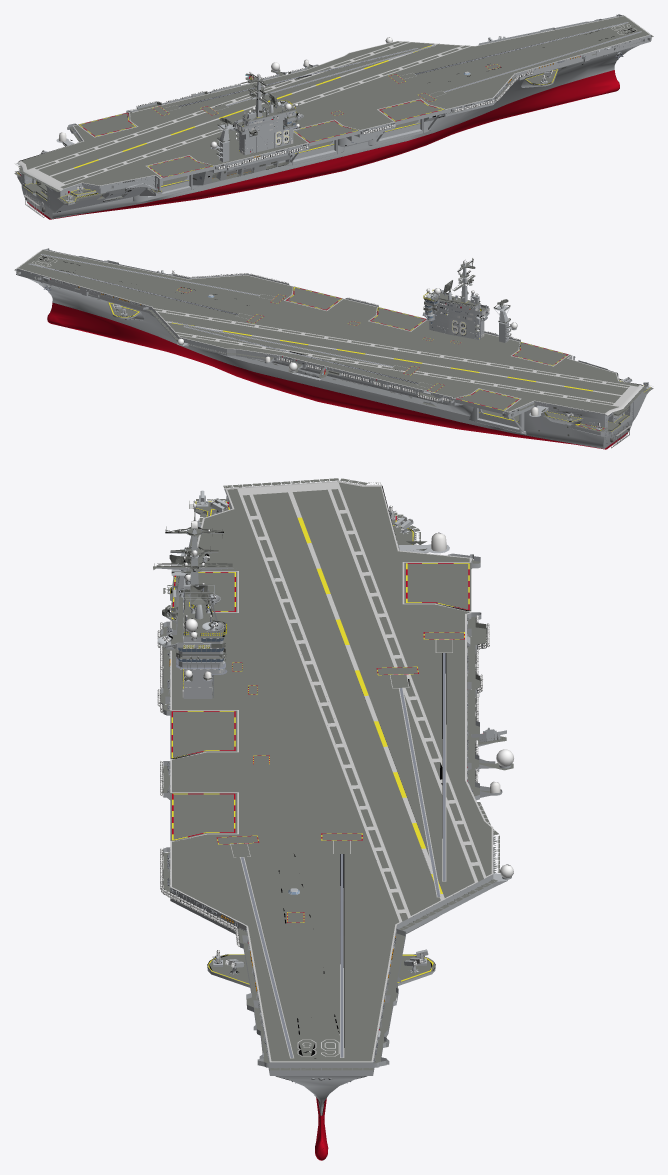
Rendered from us-nimitz.glb.
3 renders of one model, top to bottom at view 1: azimuth 30°, elevation 25°; view 2: azimuth 150°, elevation 25°; view 3: azimuth 270°, elevation 25°, orthographic. The views are drawn at different scales.
Visible parts, largest first — view 1: root; view 2: root; view 3: root.
Boxes of the visible parts, left/top/right/bottom form: root: left=14, top=14, right=653, bottom=219; root: left=14, top=248, right=653, bottom=449; root: left=153, top=478, right=513, bottom=1160.
Size of the model in its own units: 332 by 72.51 by 86.3.
